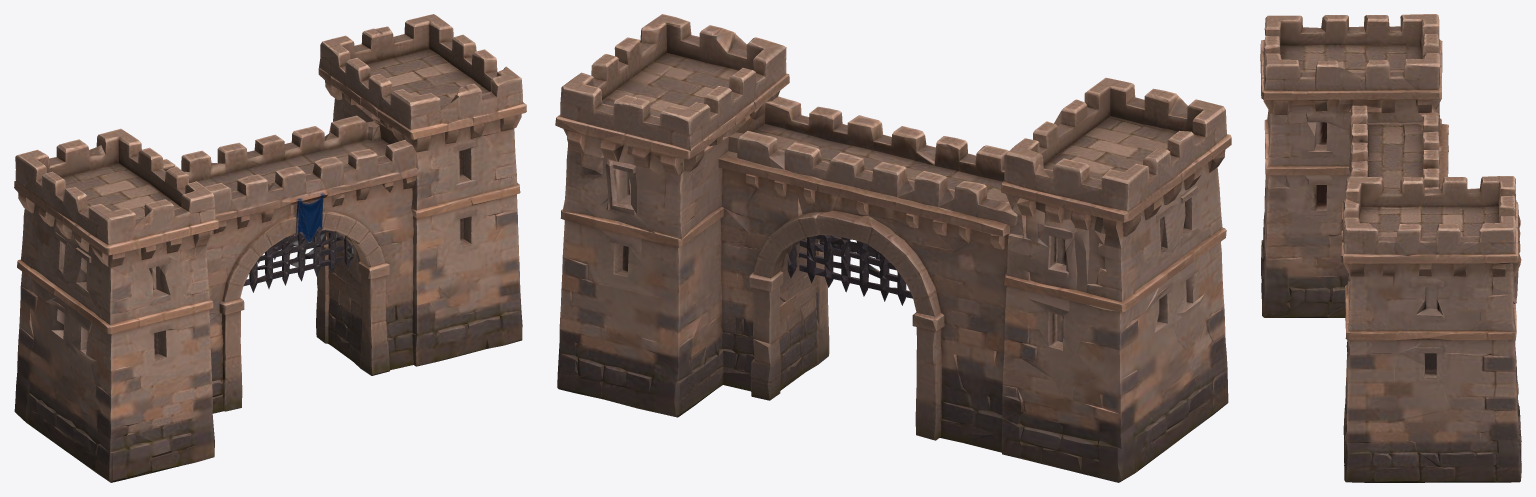
The model's file is gatehouse.glb.
3 views of the same model, side by side, from view 1: azimuth 30°, elevation 25°; view 2: azimuth 150°, elevation 25°; view 3: azimuth 270°, elevation 25° (orthographic). The views are drawn at different scales.
Bounding box in the file's own units: 1.9 × 1.04 × 0.9635.
Materials: 1 (1 with a texture image).
